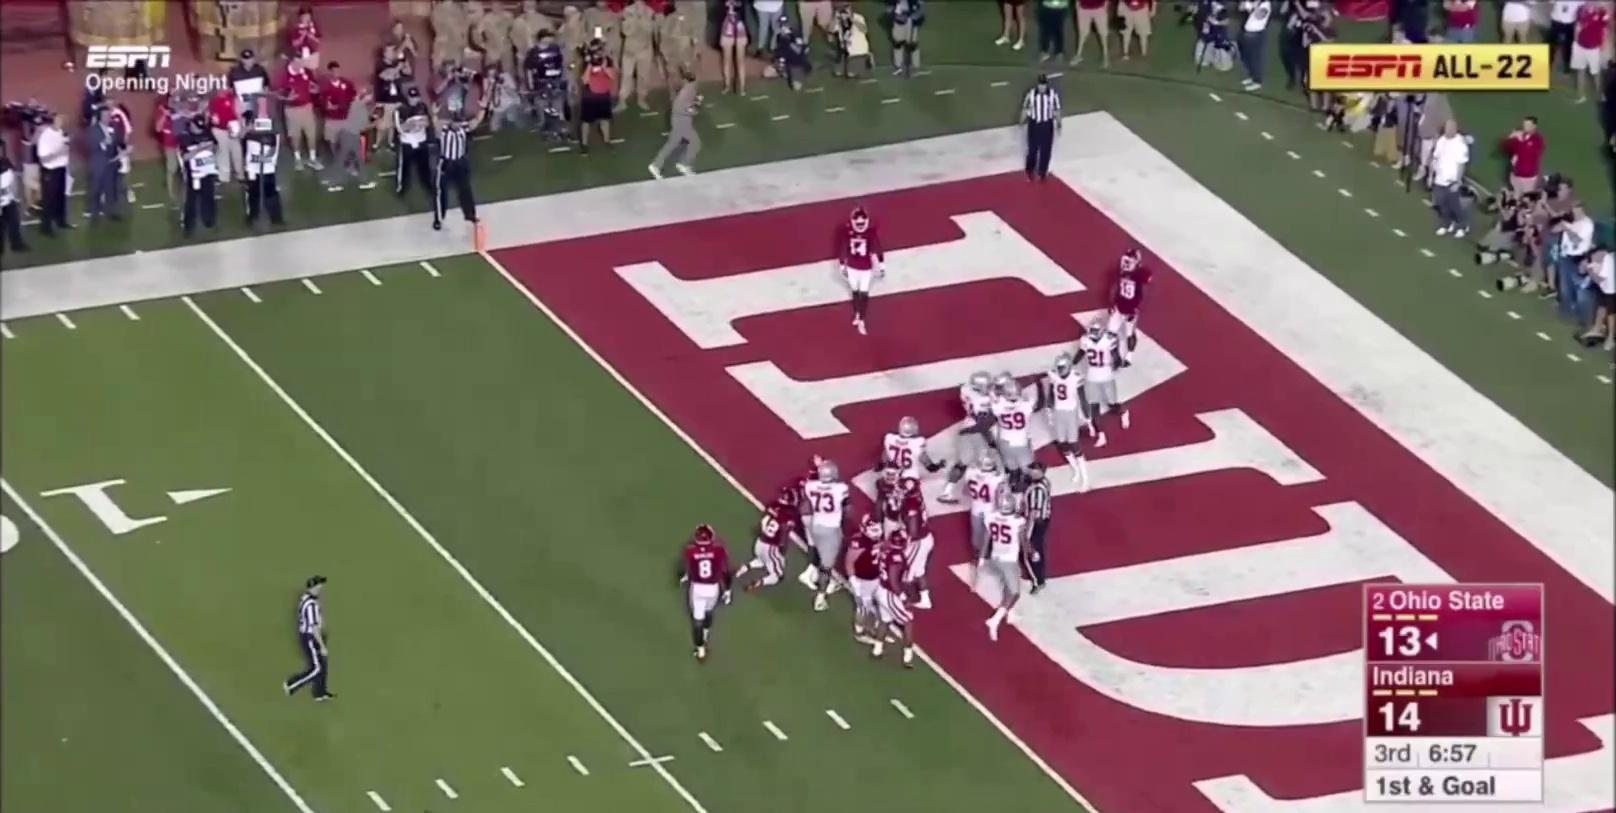10R: (0, 478, 231, 558)
